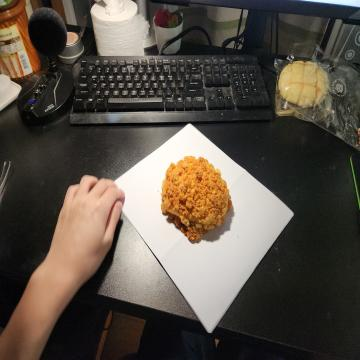soboru_bread: (160, 155, 230, 241)
